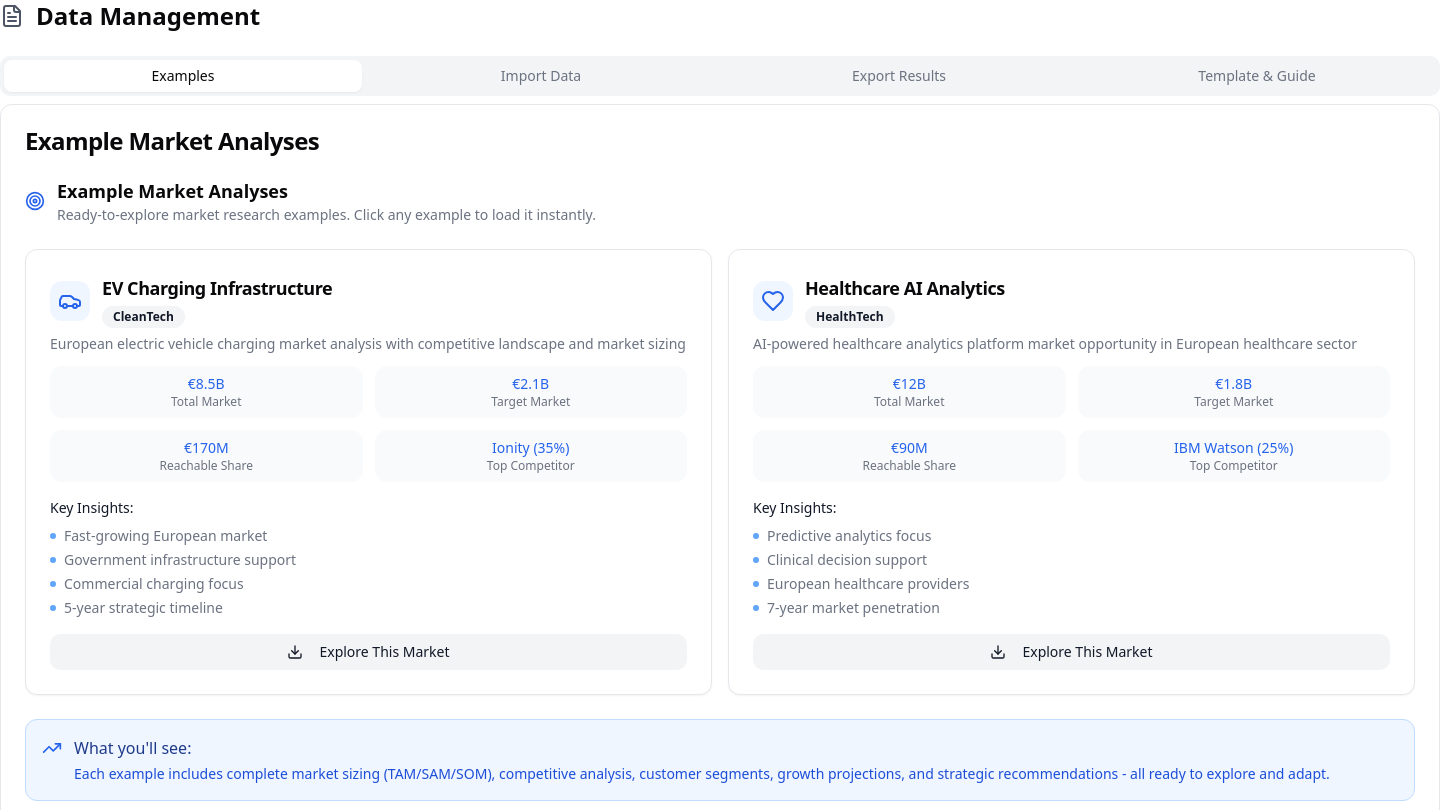
it: DataManagementModule - Copy Template Functionality › renders copy template button in template tab
The image size is (1440, 810).
Navigate to template tab
What coordinates should you click on to do the following:
click the tab "Template & Guide"
I would click on:
 (1257, 76)
Its box is [1078, 60, 1436, 92].
(page scrolled)
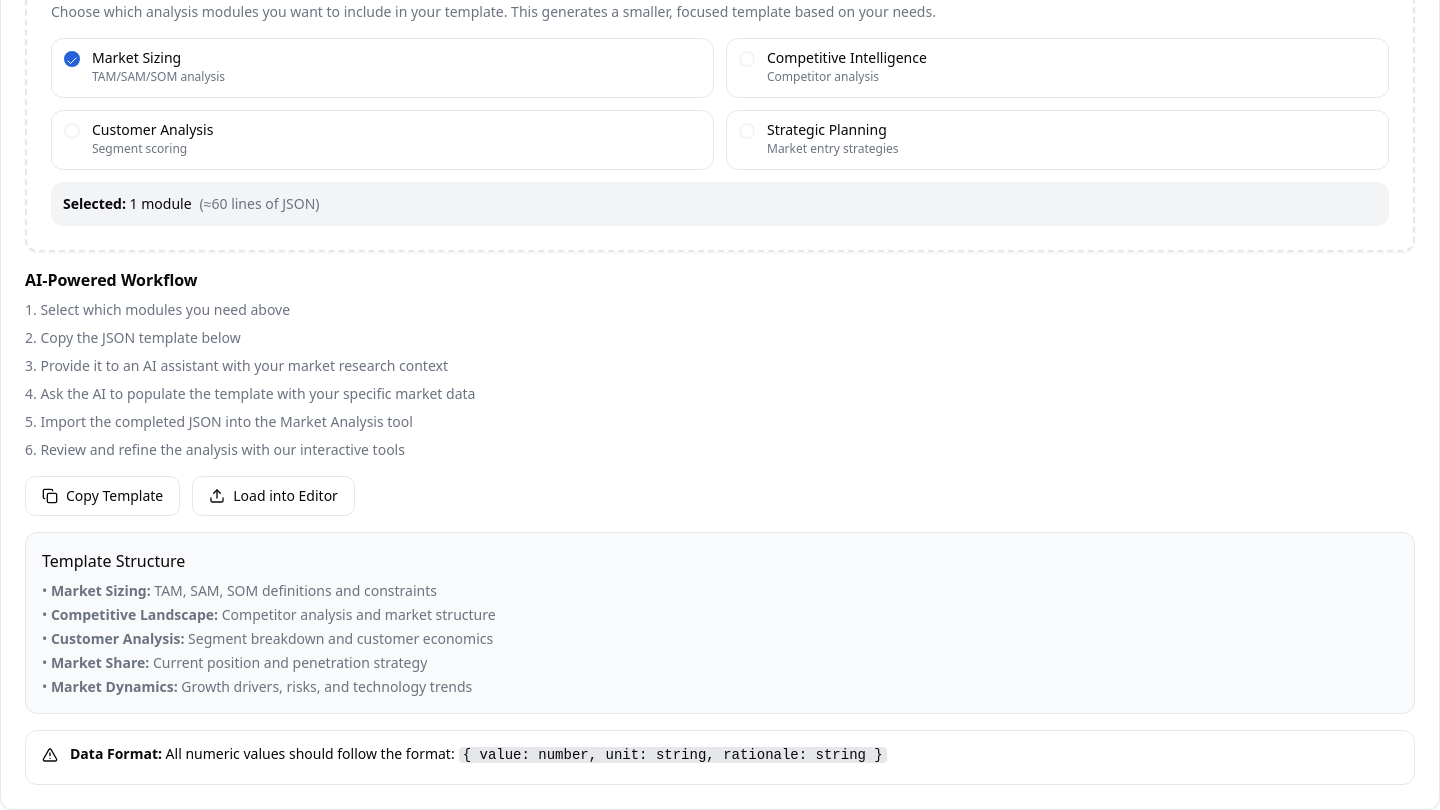
Expected: the button "Copy Template" is shown, [25, 476, 180, 516]
